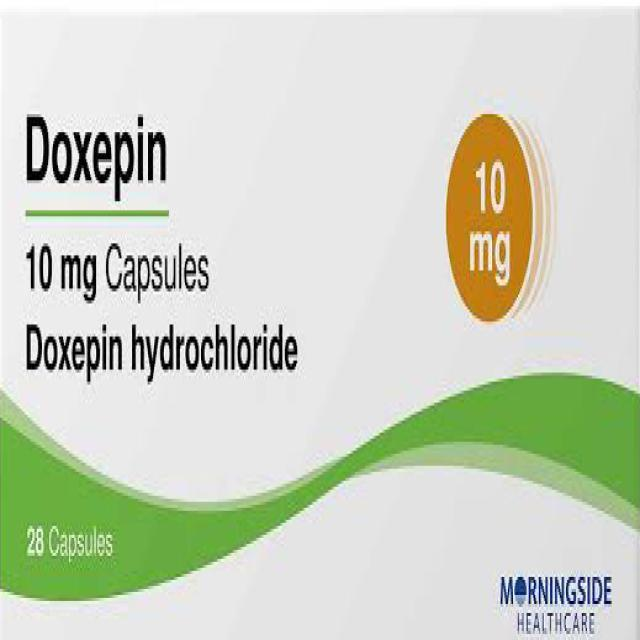drug-name: (22, 112, 174, 204)
